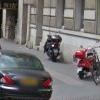Motorcycle: (43, 30, 65, 64)
